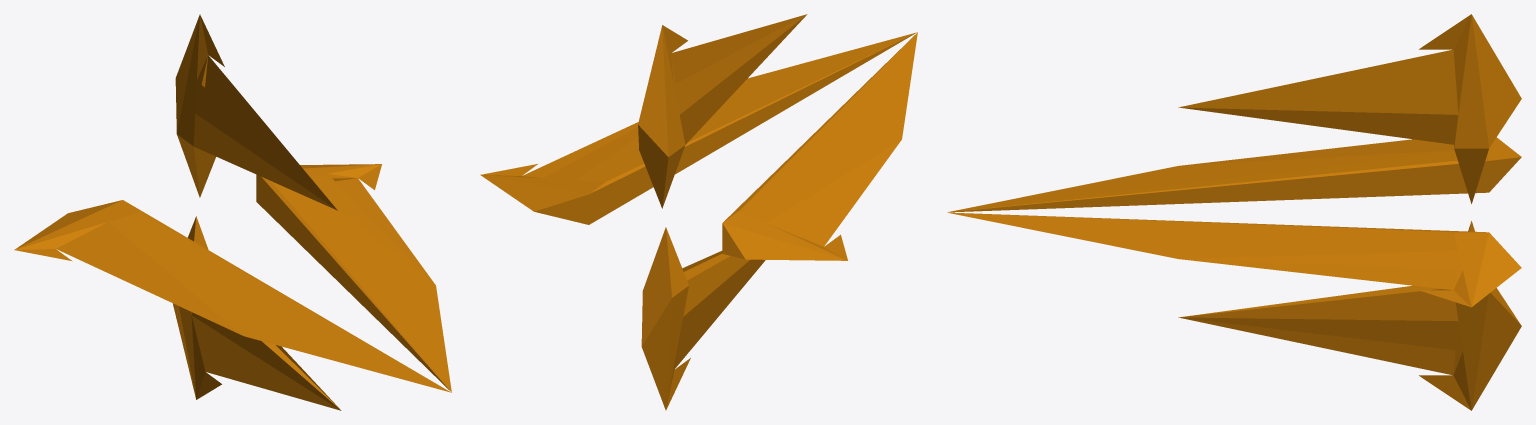
Rendered from SpaceShip5.fbx.
3 renders of one model, left to right at view 1: azimuth 30°, elevation 25°; view 2: azimuth 150°, elevation 25°; view 3: azimuth 270°, elevation 25°, orthographic. The views are drawn at different scales.
Parts seen in each view (by area): view 1: Cube; view 2: Cube; view 3: Cube.
Part boxes in pixels (<box>): Cube: <box>14,14,451,410</box>; Cube: <box>480,14,917,410</box>; Cube: <box>947,14,1521,410</box>.
Bounding box in the file's own units: 1255 × 1255 × 1642.
